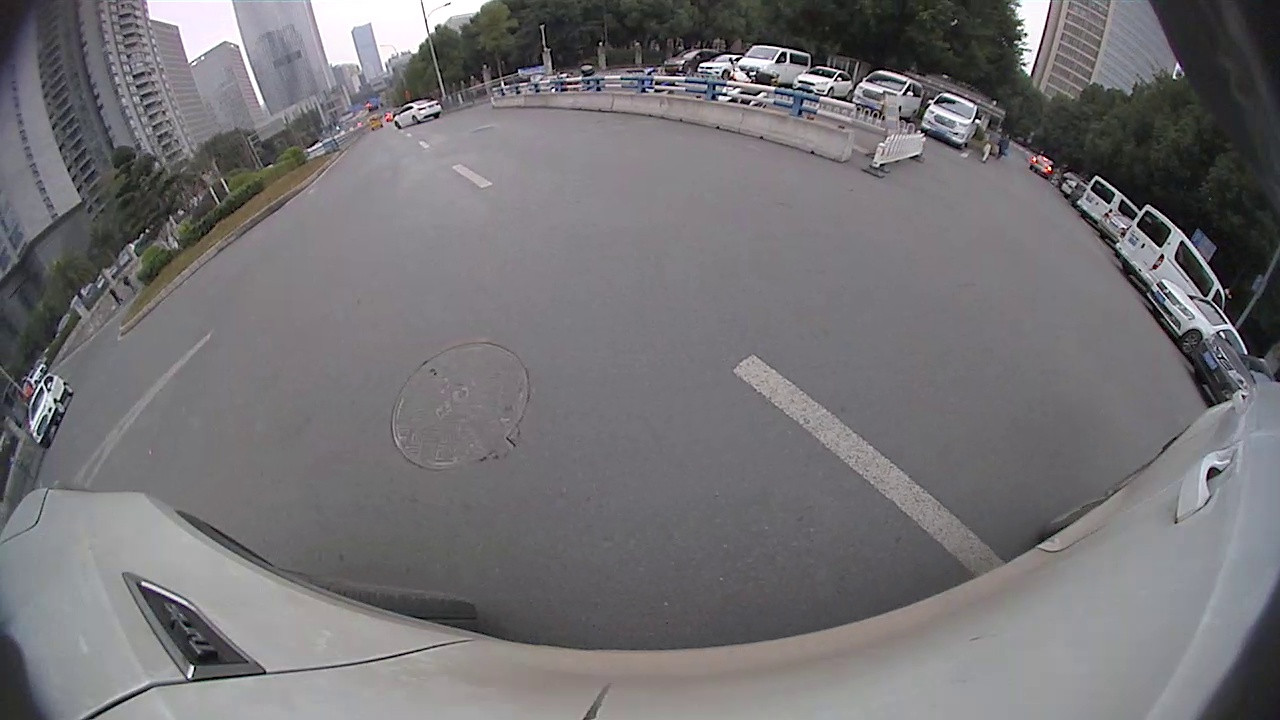car: (1111, 202, 1228, 313), (1143, 277, 1252, 364), (1195, 334, 1278, 416), (851, 67, 927, 124), (730, 42, 814, 88), (24, 372, 75, 447), (920, 90, 981, 148), (1074, 174, 1141, 224), (793, 64, 859, 102), (390, 96, 444, 132)
front: (1178, 329, 1202, 356), (54, 402, 68, 414)
rear: (64, 383, 75, 394)
